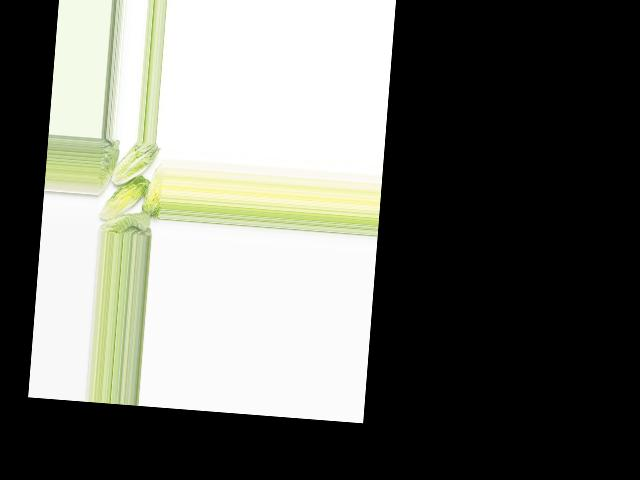lettuce: (100, 207, 153, 236)
